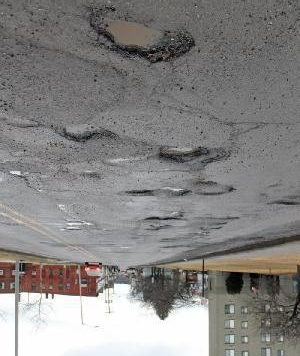pothole: (86, 14, 196, 65), (60, 121, 118, 144), (155, 144, 209, 166), (157, 184, 190, 197), (141, 214, 180, 223), (122, 189, 156, 199)
